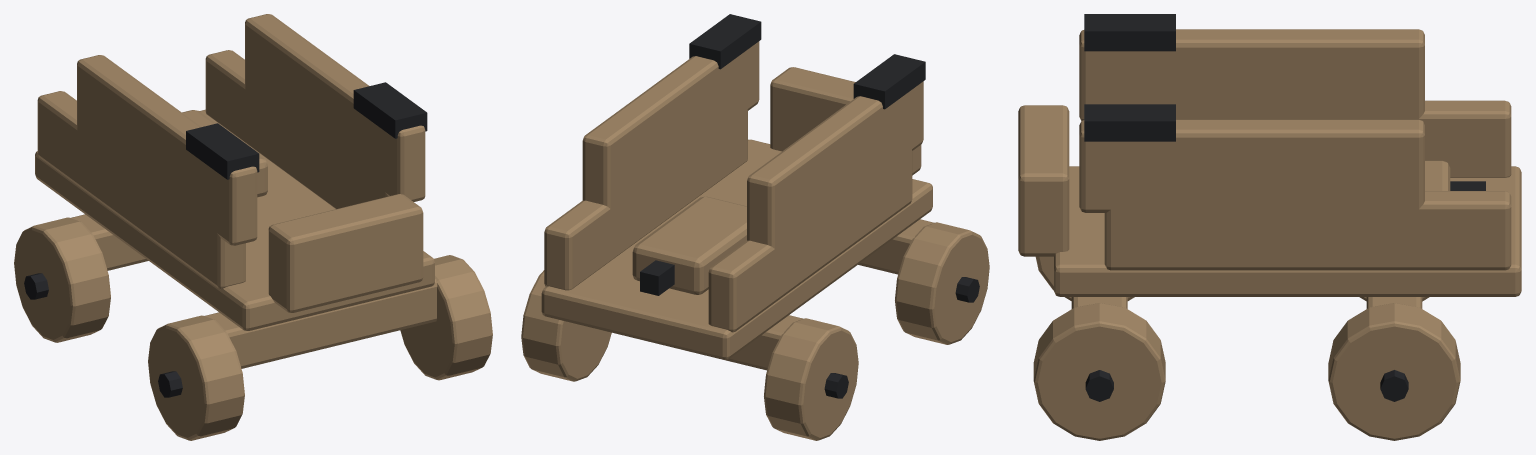
The model's file is carriage.dae.
3 renders of one model, left to right at view 1: azimuth 30°, elevation 25°; view 2: azimuth 150°, elevation 25°; view 3: azimuth 270°, elevation 25°, orthographic. The views are drawn at different scales.
Parts seen in each view (by area): view 1: ericrolph_cannon_car_wash_carriage_Cheek_L_Step1, ericrolph_cannon_car_wash_carriage_Cheek_R_Step1, ericrolph_cannon_car_wash_carriage_Transom, ericrolph_cannon_car_wash_carriage_Bed, ericrolph_cannon_car_wash_carriage_Cheek_L_Step2, ericrolph_cannon_car_wash_carriage_Cheek_R_Step2, ericrolph_cannon_car_wash_carriage_Truck_Front_L, ericrolph_cannon_car_wash_carriage_Truck_Rear_L, ericrolph_cannon_car_wash_carriage_Axletree_Rear, ericrolph_cannon_car_wash_carriage_Truck_Rear_R, ericrolph_cannon_car_wash_carriage_CapSquare_R, ericrolph_cannon_car_wash_carriage_CapSquare_L (+4 smaller); view 2: ericrolph_cannon_car_wash_carriage_Bed, ericrolph_cannon_car_wash_carriage_Cheek_R_Step1, ericrolph_cannon_car_wash_carriage_Cheek_L_Step1, ericrolph_cannon_car_wash_carriage_Cheek_L_Step2, ericrolph_cannon_car_wash_carriage_Cheek_R_Step2, ericrolph_cannon_car_wash_carriage_Truck_Rear_L, ericrolph_cannon_car_wash_carriage_Truck_Front_L, ericrolph_cannon_car_wash_carriage_Quoin, ericrolph_cannon_car_wash_carriage_Truck_Front_R, ericrolph_cannon_car_wash_carriage_Transom, ericrolph_cannon_car_wash_carriage_CapSquare_R, ericrolph_cannon_car_wash_carriage_CapSquare_L (+5 smaller); view 3: ericrolph_cannon_car_wash_carriage_Cheek_R_Step1, ericrolph_cannon_car_wash_carriage_Cheek_L_Step1, ericrolph_cannon_car_wash_carriage_Cheek_R_Step2, ericrolph_cannon_car_wash_carriage_Bed, ericrolph_cannon_car_wash_carriage_Truck_Front_R, ericrolph_cannon_car_wash_carriage_Truck_Rear_R, ericrolph_cannon_car_wash_carriage_Transom, ericrolph_cannon_car_wash_carriage_Cheek_L_Step2, ericrolph_cannon_car_wash_carriage_CapSquare_L, ericrolph_cannon_car_wash_carriage_CapSquare_R, ericrolph_cannon_car_wash_carriage_Quoin, ericrolph_cannon_car_wash_carriage_TruckPin_Front_R (+3 smaller).
Boxes of the visible parts, x1,y1,x2,y2 form: ericrolph_cannon_car_wash_carriage_Cheek_L_Step1: (77,55,257,245); ericrolph_cannon_car_wash_carriage_Cheek_R_Step1: (245,14,425,201); ericrolph_cannon_car_wash_carriage_Transom: (268,194,423,312); ericrolph_cannon_car_wash_carriage_Bed: (35,109,434,330); ericrolph_cannon_car_wash_carriage_Cheek_L_Step2: (37,91,245,289); ericrolph_cannon_car_wash_carriage_Cheek_R_Step2: (205,50,387,209); ericrolph_cannon_car_wash_carriage_Truck_Front_L: (14,217,110,342); ericrolph_cannon_car_wash_carriage_Truck_Rear_L: (148,315,244,440); ericrolph_cannon_car_wash_carriage_Axletree_Rear: (205,279,437,368); ericrolph_cannon_car_wash_carriage_Truck_Rear_R: (400,255,492,380); ericrolph_cannon_car_wash_carriage_CapSquare_R: (353,82,427,138); ericrolph_cannon_car_wash_carriage_CapSquare_L: (186,123,259,179); ericrolph_cannon_car_wash_carriage_Bed: (541,139,932,359); ericrolph_cannon_car_wash_carriage_Cheek_R_Step1: (582,41,759,208); ericrolph_cannon_car_wash_carriage_Cheek_L_Step1: (747,81,923,248); ericrolph_cannon_car_wash_carriage_Cheek_L_Step2: (708,149,912,332); ericrolph_cannon_car_wash_carriage_Cheek_R_Step2: (544,109,747,290); ericrolph_cannon_car_wash_carriage_Truck_Rear_L: (895,222,989,344); ericrolph_cannon_car_wash_carriage_Truck_Front_L: (764,318,858,440); ericrolph_cannon_car_wash_carriage_Quoin: (632,196,746,294); ericrolph_cannon_car_wash_carriage_Truck_Front_R: (521,270,611,381); ericrolph_cannon_car_wash_carriage_Transom: (770,67,921,175); ericrolph_cannon_car_wash_carriage_CapSquare_R: (689,14,761,69); ericrolph_cannon_car_wash_carriage_CapSquare_L: (853,54,925,109); ericrolph_cannon_car_wash_carriage_Cheek_R_Step1: (1079,119,1424,212); ericrolph_cannon_car_wash_carriage_Cheek_L_Step1: (1079,29,1424,120); ericrolph_cannon_car_wash_carriage_Cheek_R_Step2: (1104,191,1511,270); ericrolph_cannon_car_wash_carriage_Bed: (1054,166,1521,296); ericrolph_cannon_car_wash_carriage_Truck_Front_R: (1328,303,1460,440); ericrolph_cannon_car_wash_carriage_Truck_Rear_R: (1033,303,1165,440); ericrolph_cannon_car_wash_carriage_Transom: (1018,105,1069,256); ericrolph_cannon_car_wash_carriage_Cheek_L_Step2: (1176,100,1511,177); ericrolph_cannon_car_wash_carriage_CapSquare_L: (1084,14,1175,51); ericrolph_cannon_car_wash_carriage_CapSquare_R: (1084,104,1175,141); ericrolph_cannon_car_wash_carriage_Quoin: (1425,160,1450,190); ericrolph_cannon_car_wash_carriage_TruckPin_Front_R: (1380,370,1408,401).
Bounding box in the file's own units: 0.39 × 0.495 × 0.323.
